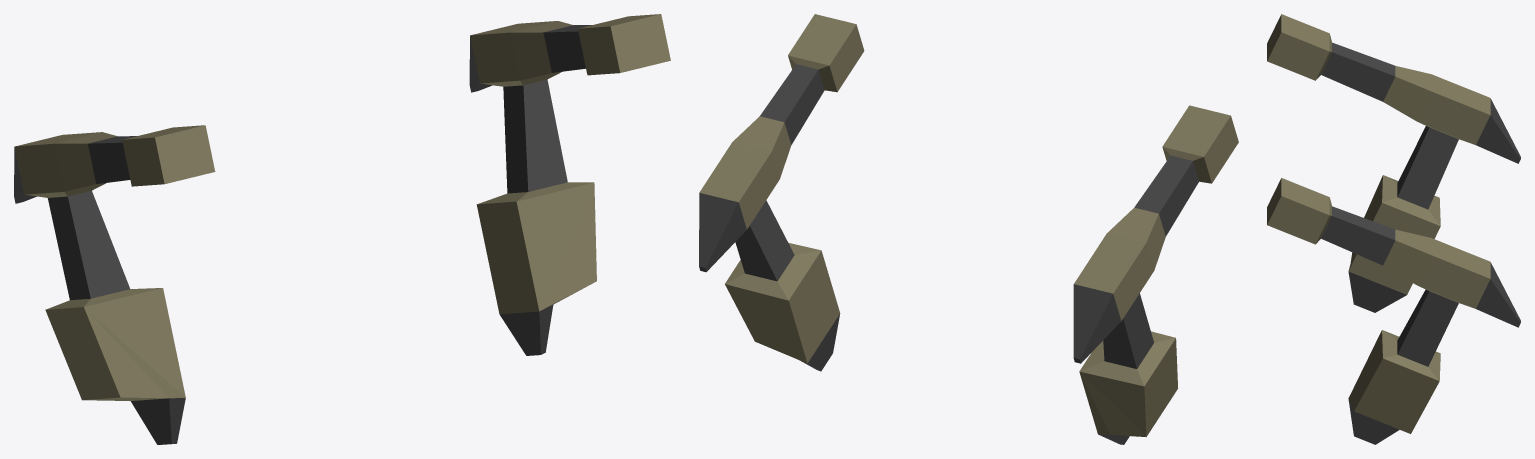
The model's file is arm2-2.obj.
The picture shows the model from 3 angles, left to right: view 1: azimuth 30°, elevation 25°; view 2: azimuth 150°, elevation 25°; view 3: azimuth 270°, elevation 25°; orthographic projection. The views are drawn at different scales.
Parts seen in each view (by area): view 1: MechArm2; view 2: MechArm2; view 3: MechArm2.
Boxes of the visible parts, x1,y1,x2,y2 form: MechArm2: (14, 14, 670, 444); MechArm2: (699, 14, 1238, 444); MechArm2: (1267, 14, 1520, 444).
Size of the model in its own units: 7.19 by 5 by 4.2.
1 material, 1 textured.
